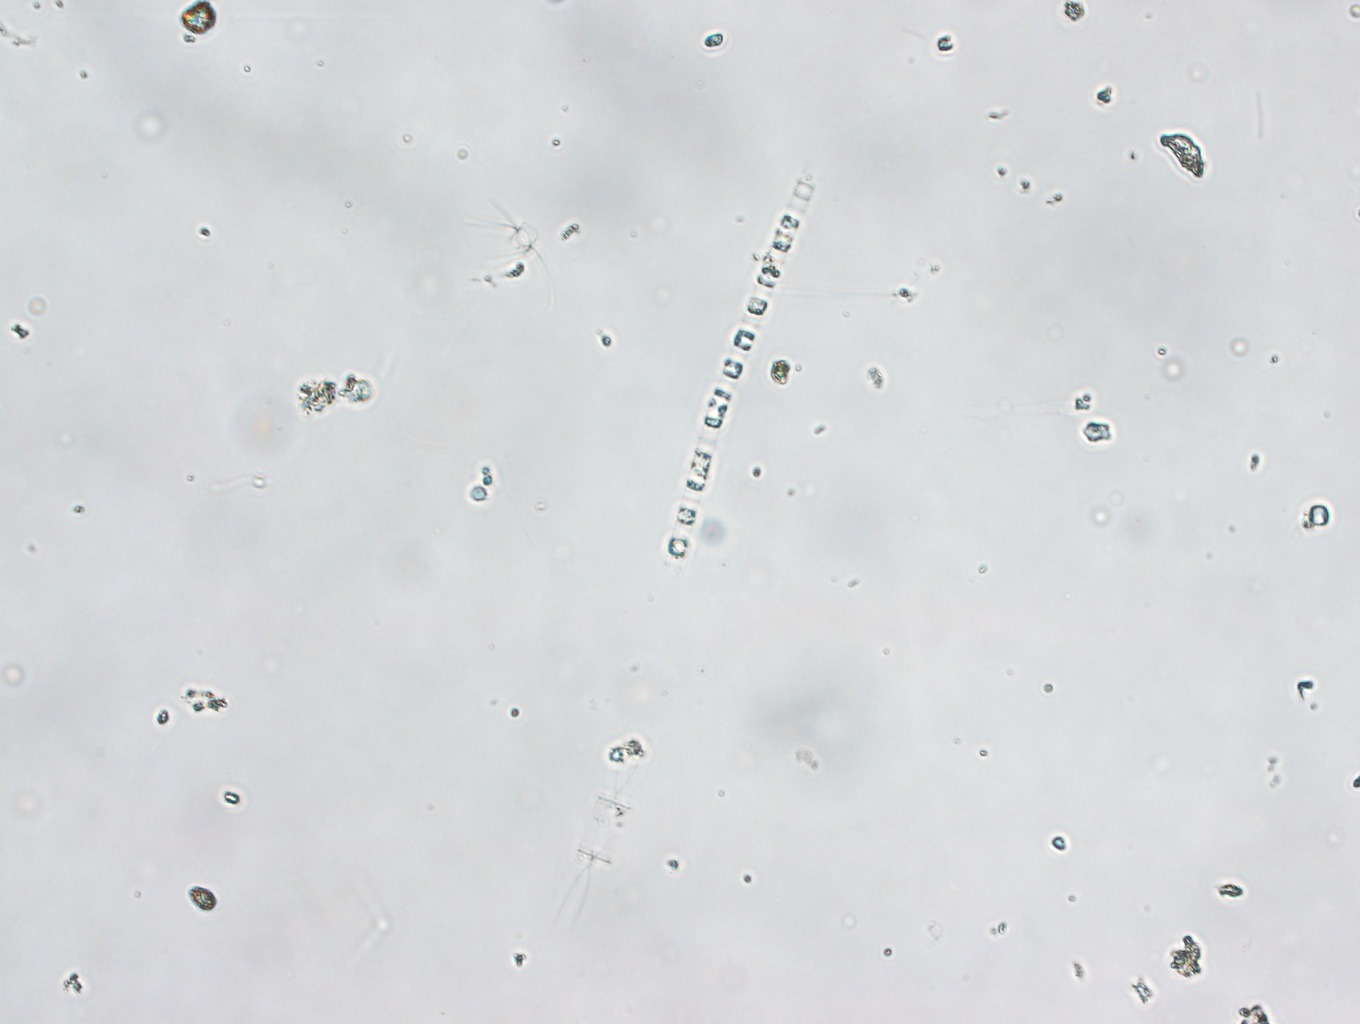skeletonema: (655, 175, 830, 560)
